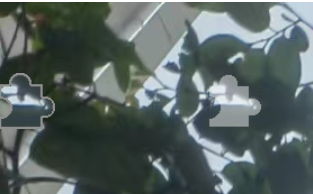target: (206, 74, 262, 130)
